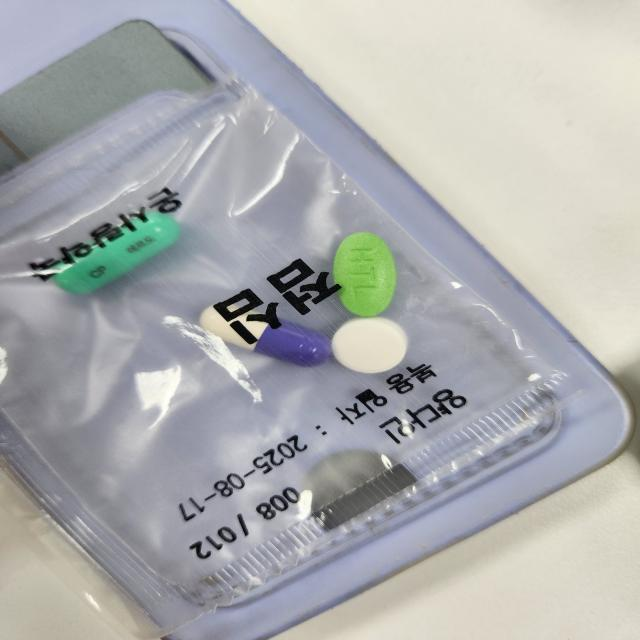러키펜정: (331, 318, 409, 376)
씨엠지세파클러캡슐: (199, 306, 327, 366)
에르도캡슐: (51, 207, 185, 296)
휴티렌정: (333, 232, 399, 319)
